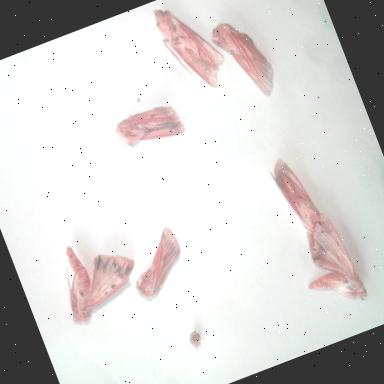abw: (39, 216, 154, 334), (280, 204, 378, 326), (147, 0, 238, 105), (204, 8, 286, 114), (116, 220, 201, 310), (261, 144, 332, 244), (107, 92, 192, 162)
